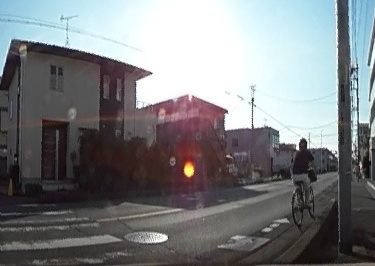person: (291, 136, 312, 207)
